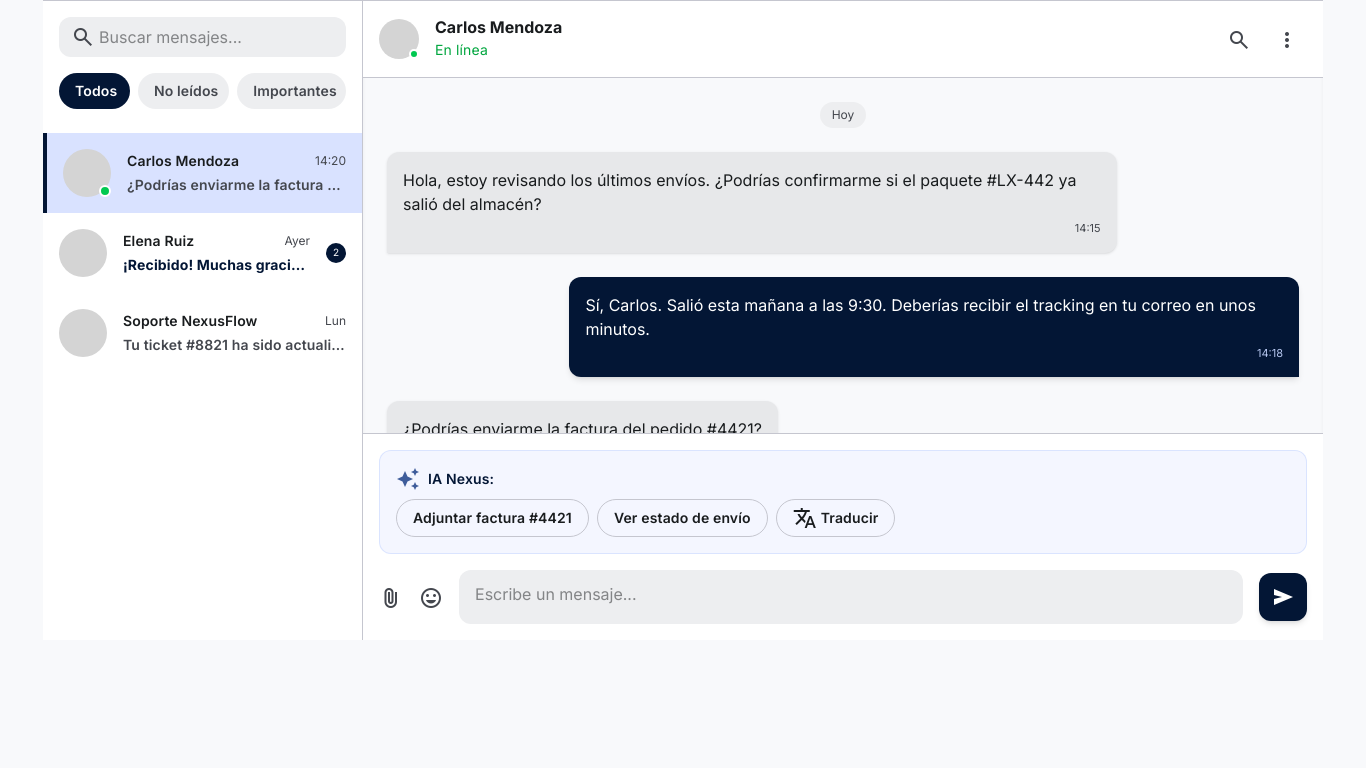
MessagingPage › shows all threads when search is cleared
This screenshot has width=1366, height=768.
Type "Elena" into the search field with placeholder "Buscar mensajes...".
click(202, 37); type("Elena")  # box [59, 17, 346, 57]
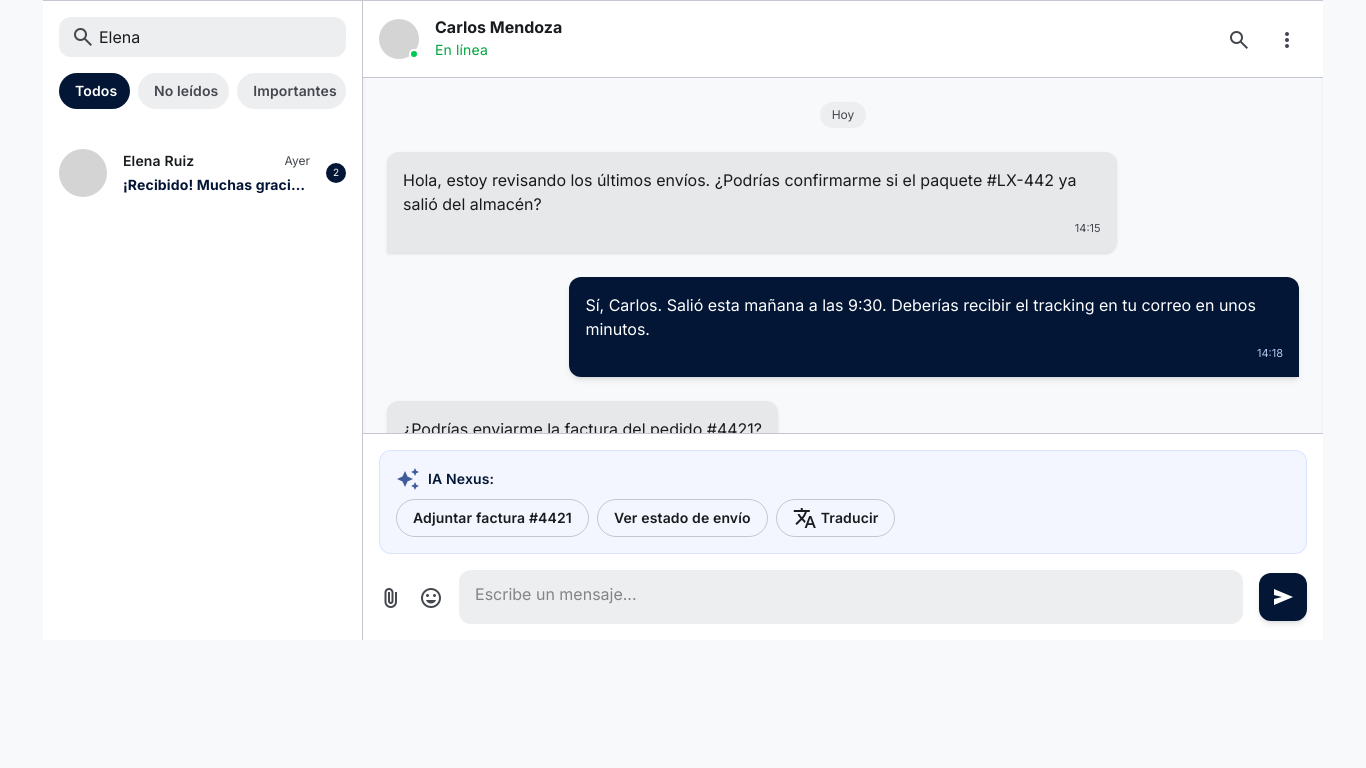
Now the button "Soporte NexusFlow" is gone
Clear the search field with placeholder "Buscar mensajes..." at (202, 37), box [59, 17, 346, 57]
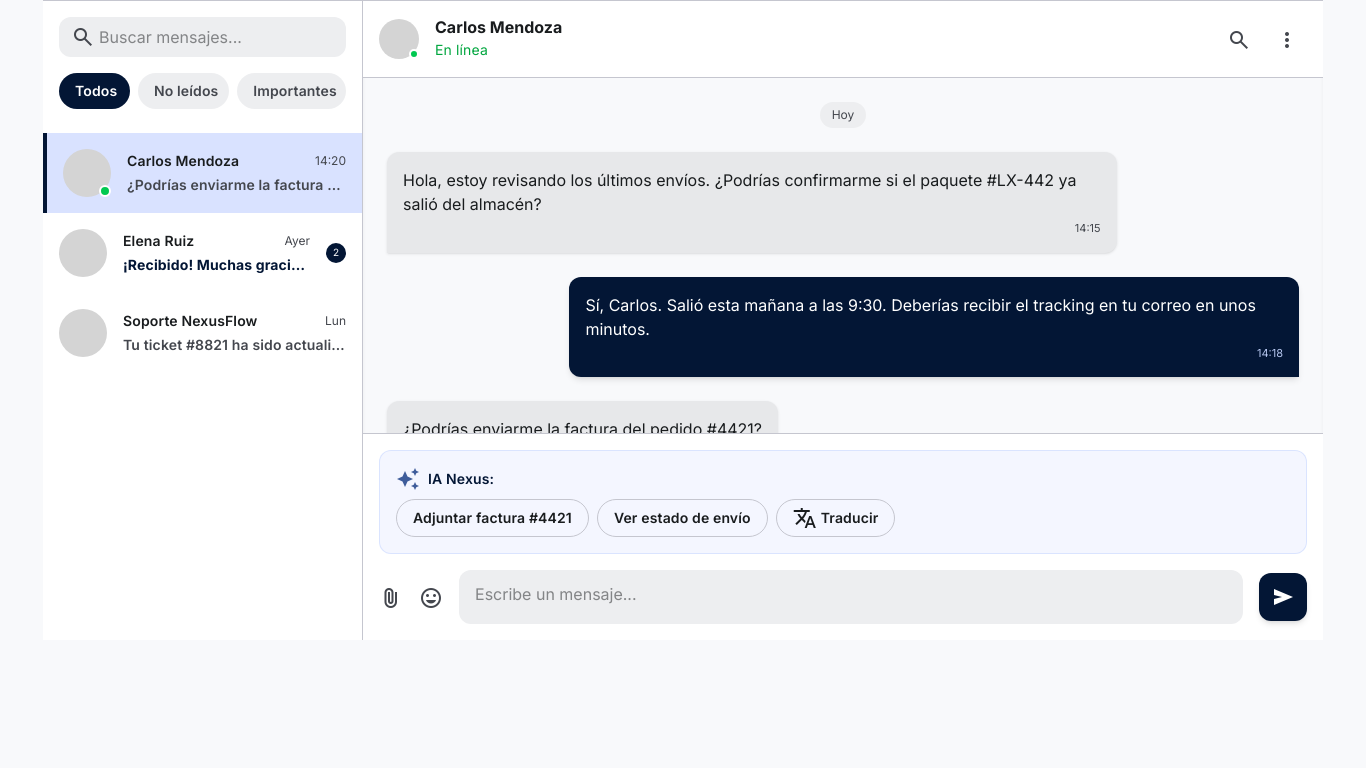
Now the heading "Soporte NexusFlow" is shown, box [123, 311, 258, 331]
